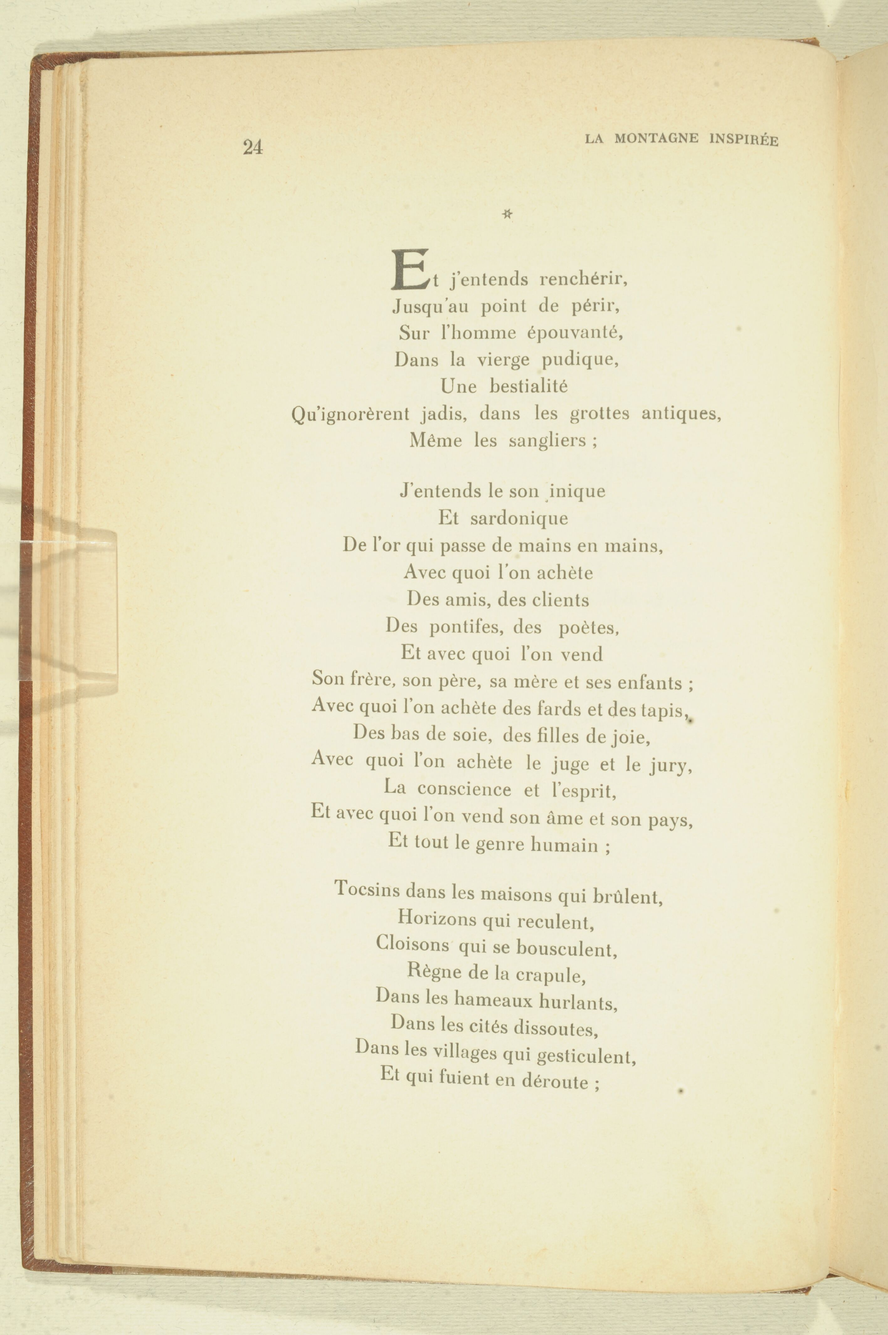InterligneAsterisque: (494, 195, 525, 235)
N°Page: (221, 120, 281, 159)
TitreCourant: (567, 124, 806, 159)
Vers: (380, 235, 628, 294), (288, 397, 740, 428), (301, 665, 705, 697), (304, 800, 713, 830), (329, 874, 699, 903), (309, 747, 708, 773), (340, 529, 670, 560), (351, 1037, 638, 1067), (348, 724, 662, 751), (372, 982, 628, 1012), (372, 1069, 624, 1099), (313, 697, 696, 716), (380, 614, 628, 640), (380, 295, 631, 320), (391, 348, 652, 372), (398, 475, 614, 504), (379, 833, 631, 857), (373, 935, 621, 959), (386, 1013, 603, 1038), (376, 780, 632, 801), (394, 642, 617, 665), (390, 326, 639, 346), (397, 560, 596, 582), (412, 587, 593, 610), (401, 432, 618, 451), (391, 910, 610, 927), (436, 506, 581, 531), (430, 373, 579, 397), (405, 966, 600, 984)
